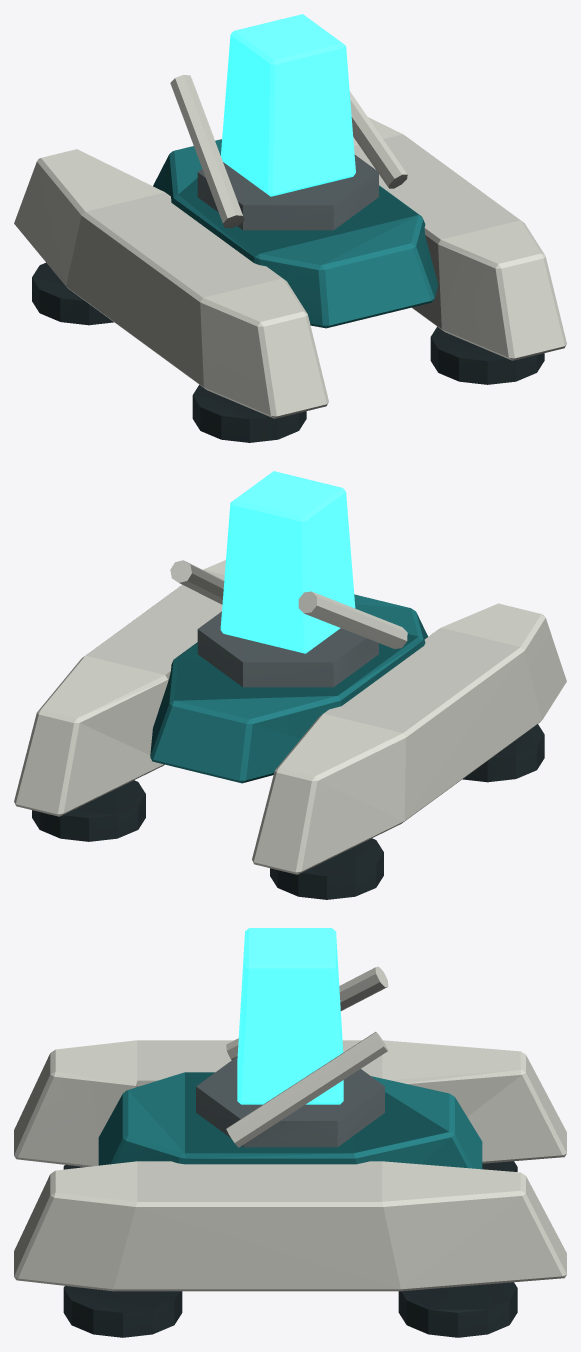
Rendered from PrismSkimmer.glb.
The picture shows the model from 3 angles, top to bottom: view 1: azimuth 30°, elevation 25°; view 2: azimuth 150°, elevation 25°; view 3: azimuth 270°, elevation 25°; orthographic projection. The views are drawn at different scales.
Visible parts, largest first — view 1: export_PrismSkimmer_RepulsorPontoon, export_PrismSkimmer_PrismCradle; view 2: export_PrismSkimmer_RepulsorPontoon, export_PrismSkimmer_PrismCradle; view 3: export_PrismSkimmer_RepulsorPontoon, export_PrismSkimmer_PrismCradle.
Part boxes in pixels (x1,y1,x2,y2): export_PrismSkimmer_RepulsorPontoon: [14, 117, 566, 442]; export_PrismSkimmer_PrismCradle: [170, 14, 407, 230]; export_PrismSkimmer_RepulsorPontoon: [14, 560, 566, 899]; export_PrismSkimmer_PrismCradle: [170, 471, 407, 687]; export_PrismSkimmer_RepulsorPontoon: [14, 1040, 566, 1337]; export_PrismSkimmer_PrismCradle: [196, 928, 388, 1147].
Bounding box in the file's own units: 2.68 × 2.22 × 3.63.
